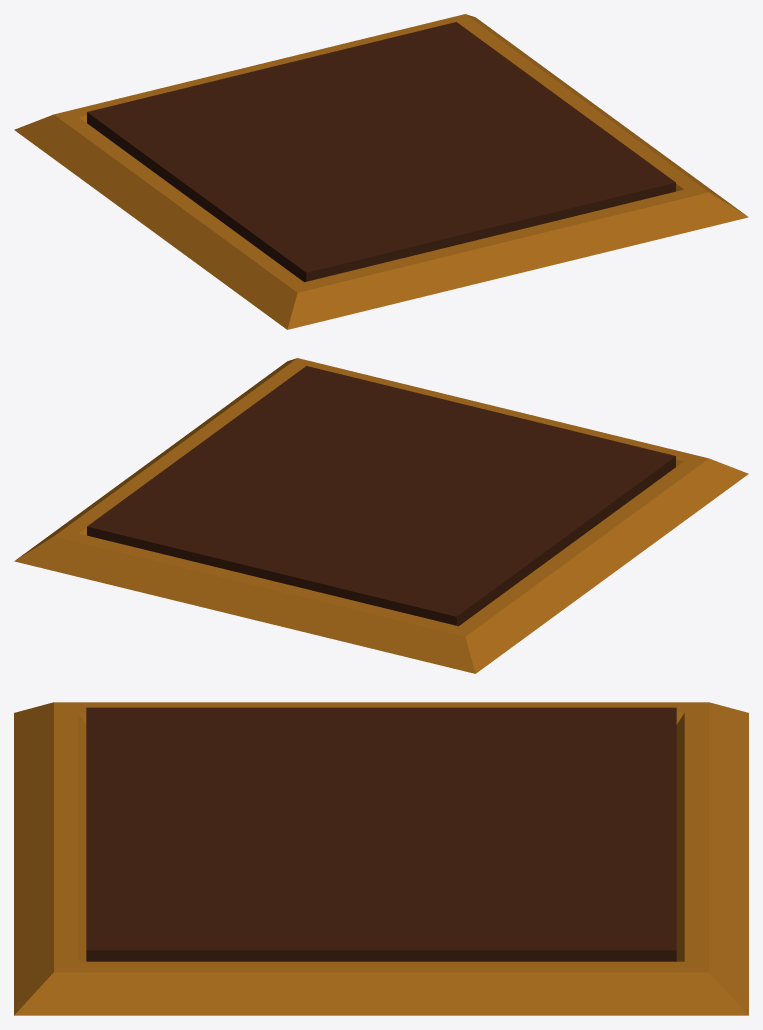
Rendered from pressure_plate.FBX.
The picture shows the model from 3 angles, top to bottom: view 1: azimuth 30°, elevation 25°; view 2: azimuth 150°, elevation 25°; view 3: azimuth 270°, elevation 25°; orthographic projection. The views are drawn at different scales.
Visible parts, largest first — view 1: Box001; view 2: Box001; view 3: Box001.
Boxes of the visible parts, x1,y1,x2,y2 form: Box001: (14,14,748,329); Box001: (14,358,748,673); Box001: (14,702,748,1015).
Size of the model in its own units: 89.07 by 4.85 by 91.37.
